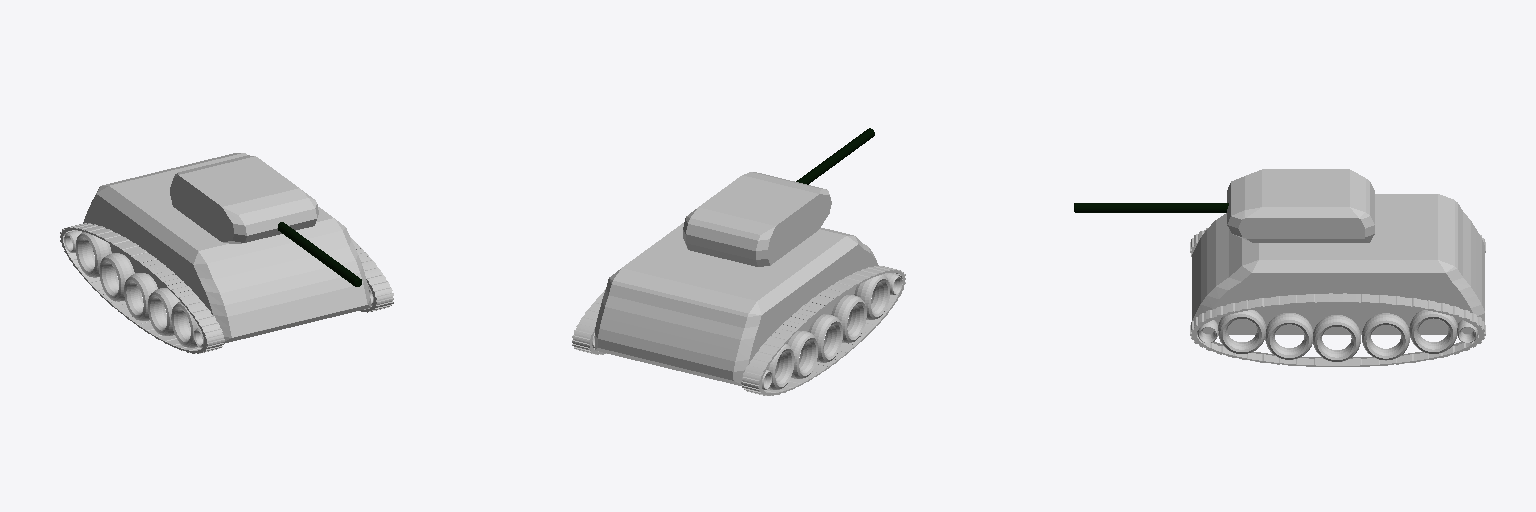
The picture shows the model from 3 angles: view 1: azimuth 30°, elevation 25°; view 2: azimuth 150°, elevation 25°; view 3: azimuth 270°, elevation 25°; orthographic projection.
Parts seen in each view (by area): view 1: Cubo.001, Gear.001, Rosca.018, Cilindro; view 2: Cubo.001, Rosca.018, Gear.001, Cilindro; view 3: Cubo.001, Rosca.018, Gear.001, Cilindro, Rosca.013.
Part boxes in pixels (left/top/right/bottom): Cubo.001: left=83, top=153, right=370, bottom=343; Gear.001: left=60, top=223, right=393, bottom=353; Rosca.018: left=76, top=232, right=368, bottom=347; Cilindro: left=278, top=222, right=361, bottom=286; Cubo.001: left=595, top=172, right=878, bottom=385; Rosca.018: left=767, top=274, right=889, bottom=389; Gear.001: left=572, top=266, right=905, bottom=395; Cilindro: left=796, top=128, right=874, bottom=184; Cubo.001: left=1192, top=169, right=1484, bottom=334; Rosca.018: left=1218, top=309, right=1457, bottom=361; Gear.001: left=1190, top=228, right=1485, bottom=366; Cilindro: left=1074, top=203, right=1228, bottom=212; Rosca.013: left=1197, top=320, right=1477, bottom=342.
Size of the model in its own units: 22.06 by 14.82 by 42.03.